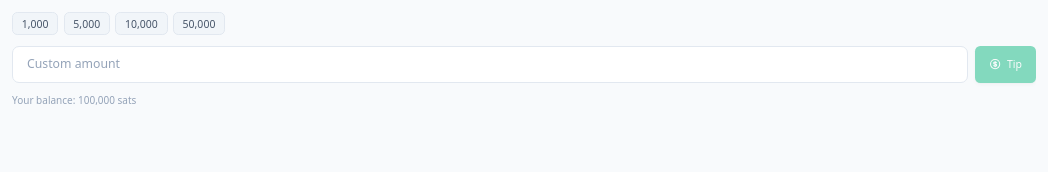
Test: TipForm › error handling › shows error message returned from tipPost
The width and height of the screenshot is (1048, 172).
Click the button "1,000" at (35, 24), box [12,12,58,35]
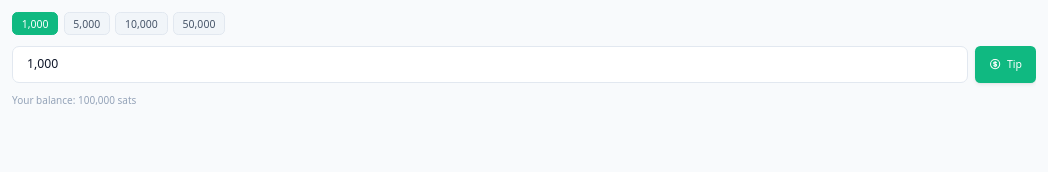
Submit the form, box [12,12,1036,108]
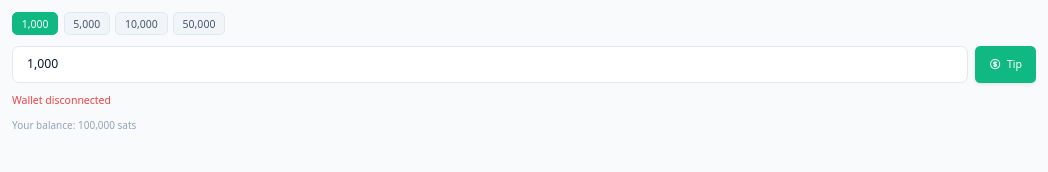
expect the text "Wallet disconnected" is shown: met, box [12,93,111,107]
